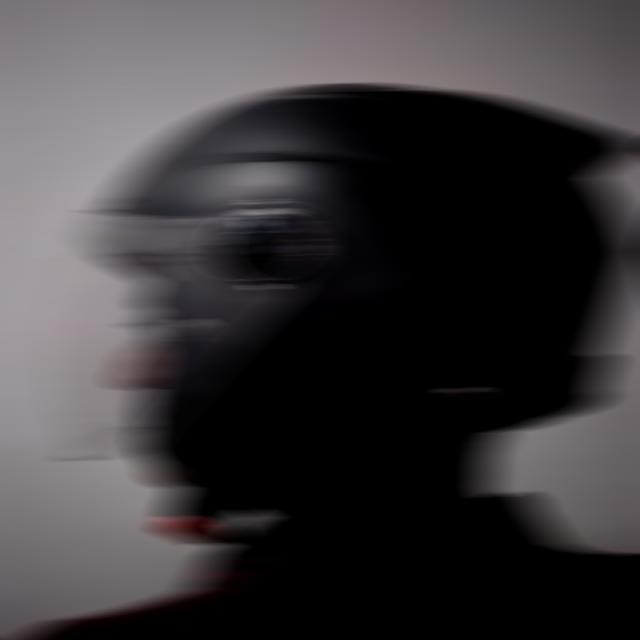With Helmet: (36, 80, 639, 516)
